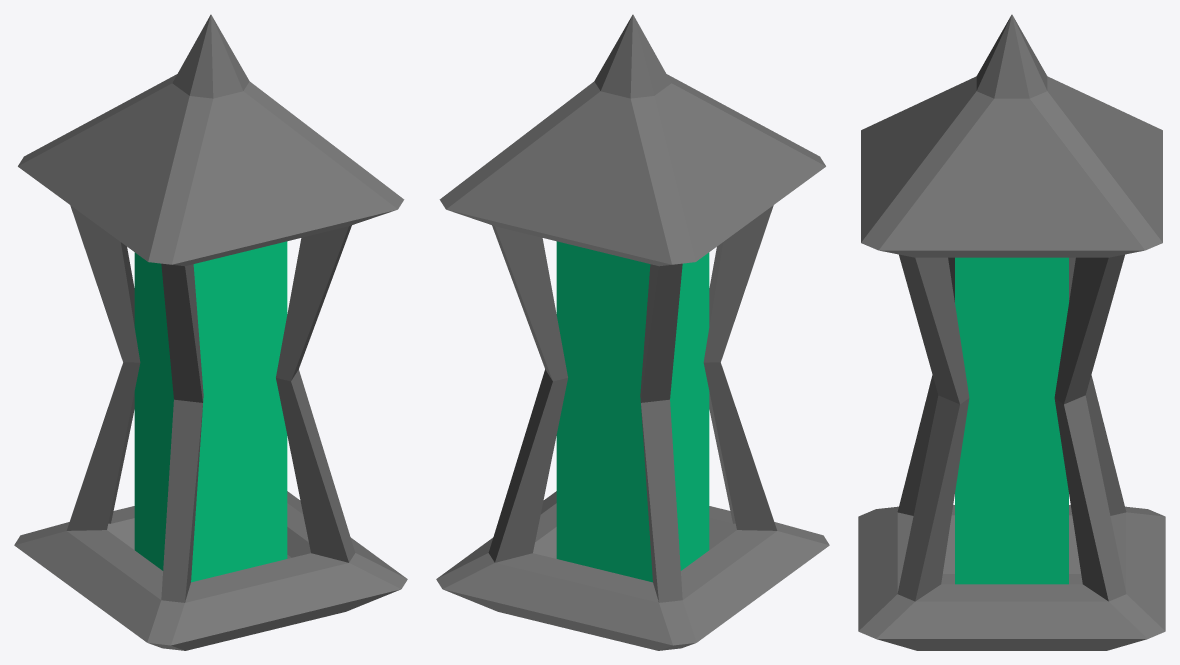
File: Lamp.fbx
3 views of the same model, side by side, from view 1: azimuth 30°, elevation 25°; view 2: azimuth 150°, elevation 25°; view 3: azimuth 270°, elevation 25° (orthographic). The views are drawn at different scales.
Visible parts, largest first — view 1: pCube1, pCube2; view 2: pCube1, pCube2; view 3: pCube1, pCube2.
Boxes of the visible parts, x1,y1,x2,y2 form: pCube1: [14, 14, 407, 650]; pCube2: [134, 241, 287, 582]; pCube1: [436, 14, 829, 650]; pCube2: [556, 241, 709, 582]; pCube1: [858, 14, 1165, 650]; pCube2: [955, 257, 1068, 584].
Size of the model in its own units: 335 by 718 by 335.
